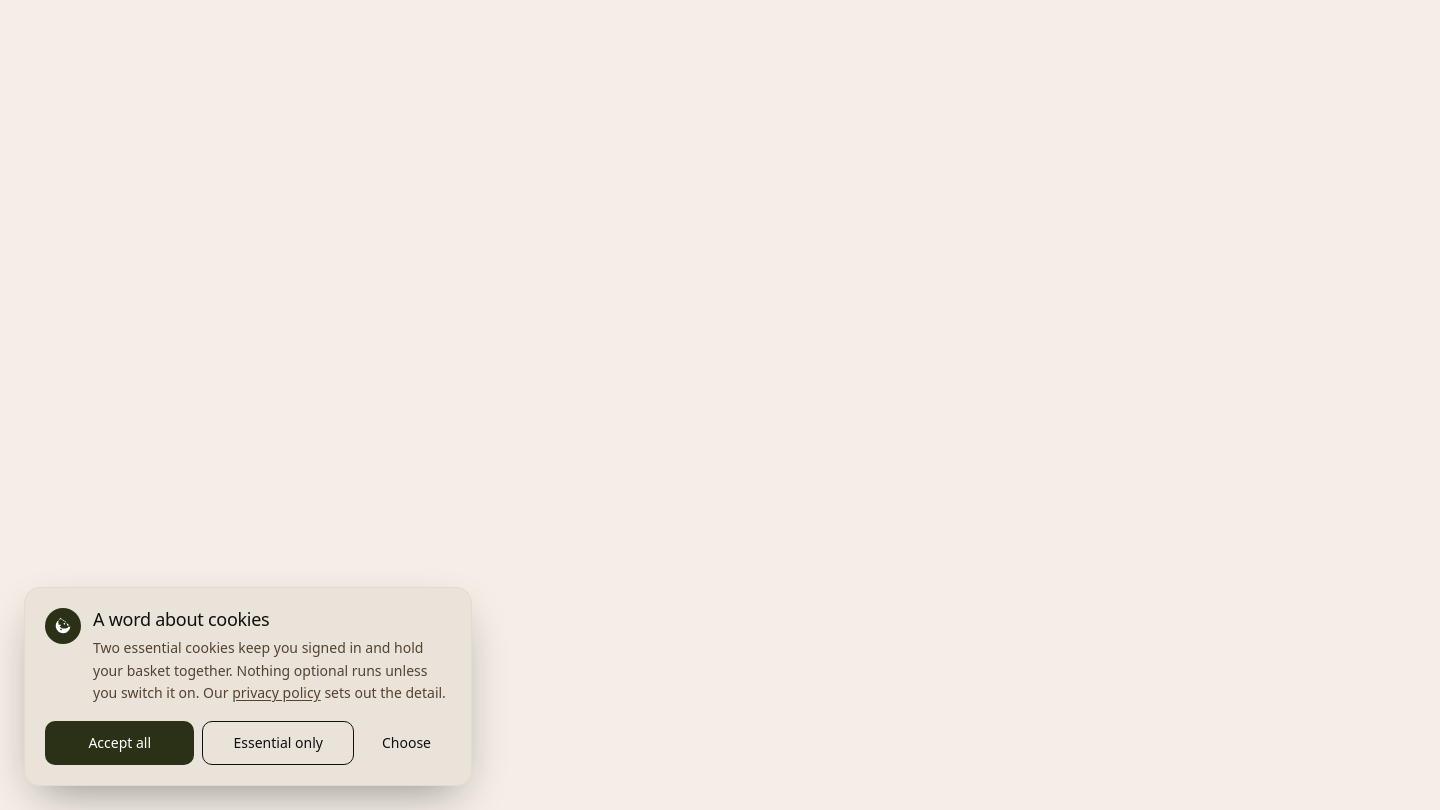
CookieConsent › keeps the essential switch locked on
Step 1. Click the button "Choose" → click(406, 743), box [362, 721, 451, 765]
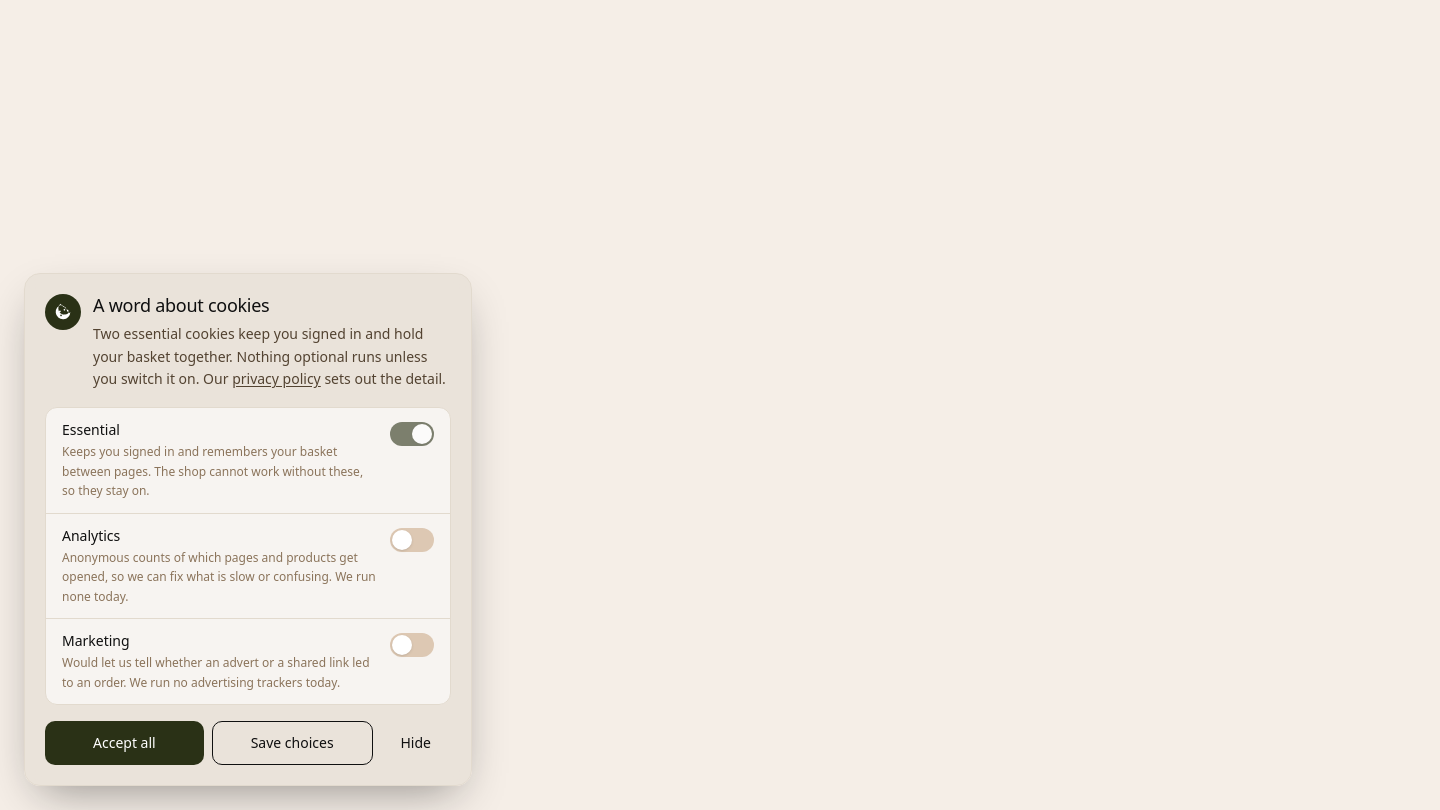
expect the checkbox named "essential" is checked: met, box [390, 422, 434, 446]
expect the checkbox named "essential" is disabled: met, box [390, 422, 434, 446]
